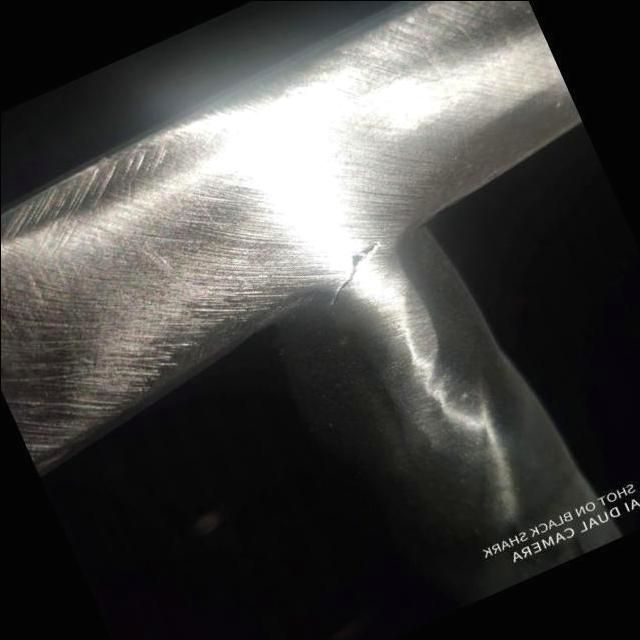defect: (328, 234, 383, 307)
